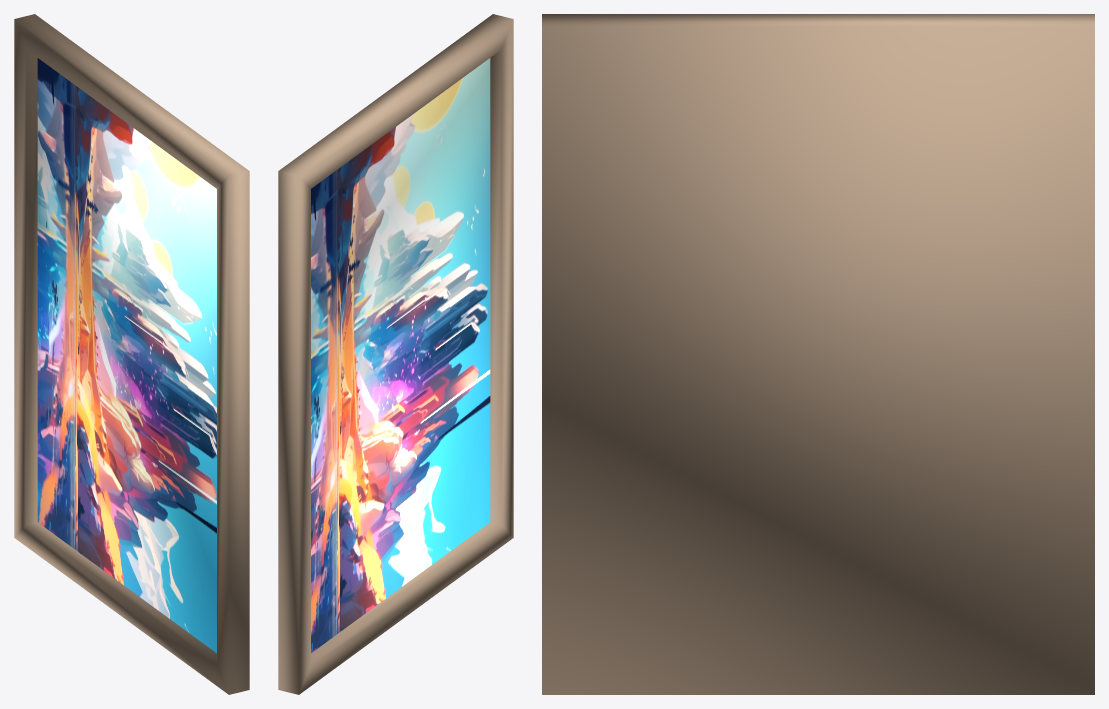
The model's file is DecorB.glb.
The picture shows the model from 3 angles, left to right: view 1: azimuth 30°, elevation 25°; view 2: azimuth 150°, elevation 25°; view 3: azimuth 270°, elevation 25°; orthographic projection. The views are drawn at different scales.
Parts seen in each view (by area): view 1: Cube.005; view 2: Cube.005; view 3: Cube.005.
Part boxes in pixels (left/top/right/bottom): Cube.005: left=14, top=14, right=249, bottom=694; Cube.005: left=278, top=14, right=513, bottom=694; Cube.005: left=542, top=14, right=1094, bottom=694.
Size of the model in its own units: 0.1 by 2.4 by 1.8.
Materials: 2 (1 with a texture image).
